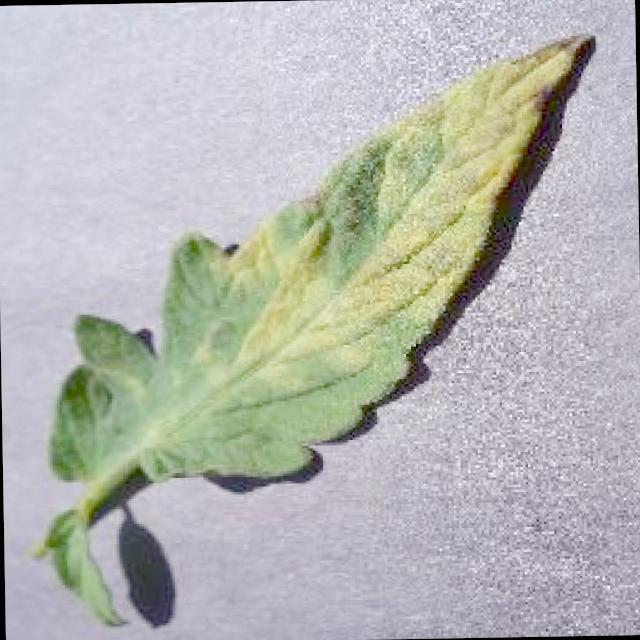Tomato mold leaf: (41, 34, 596, 493)
